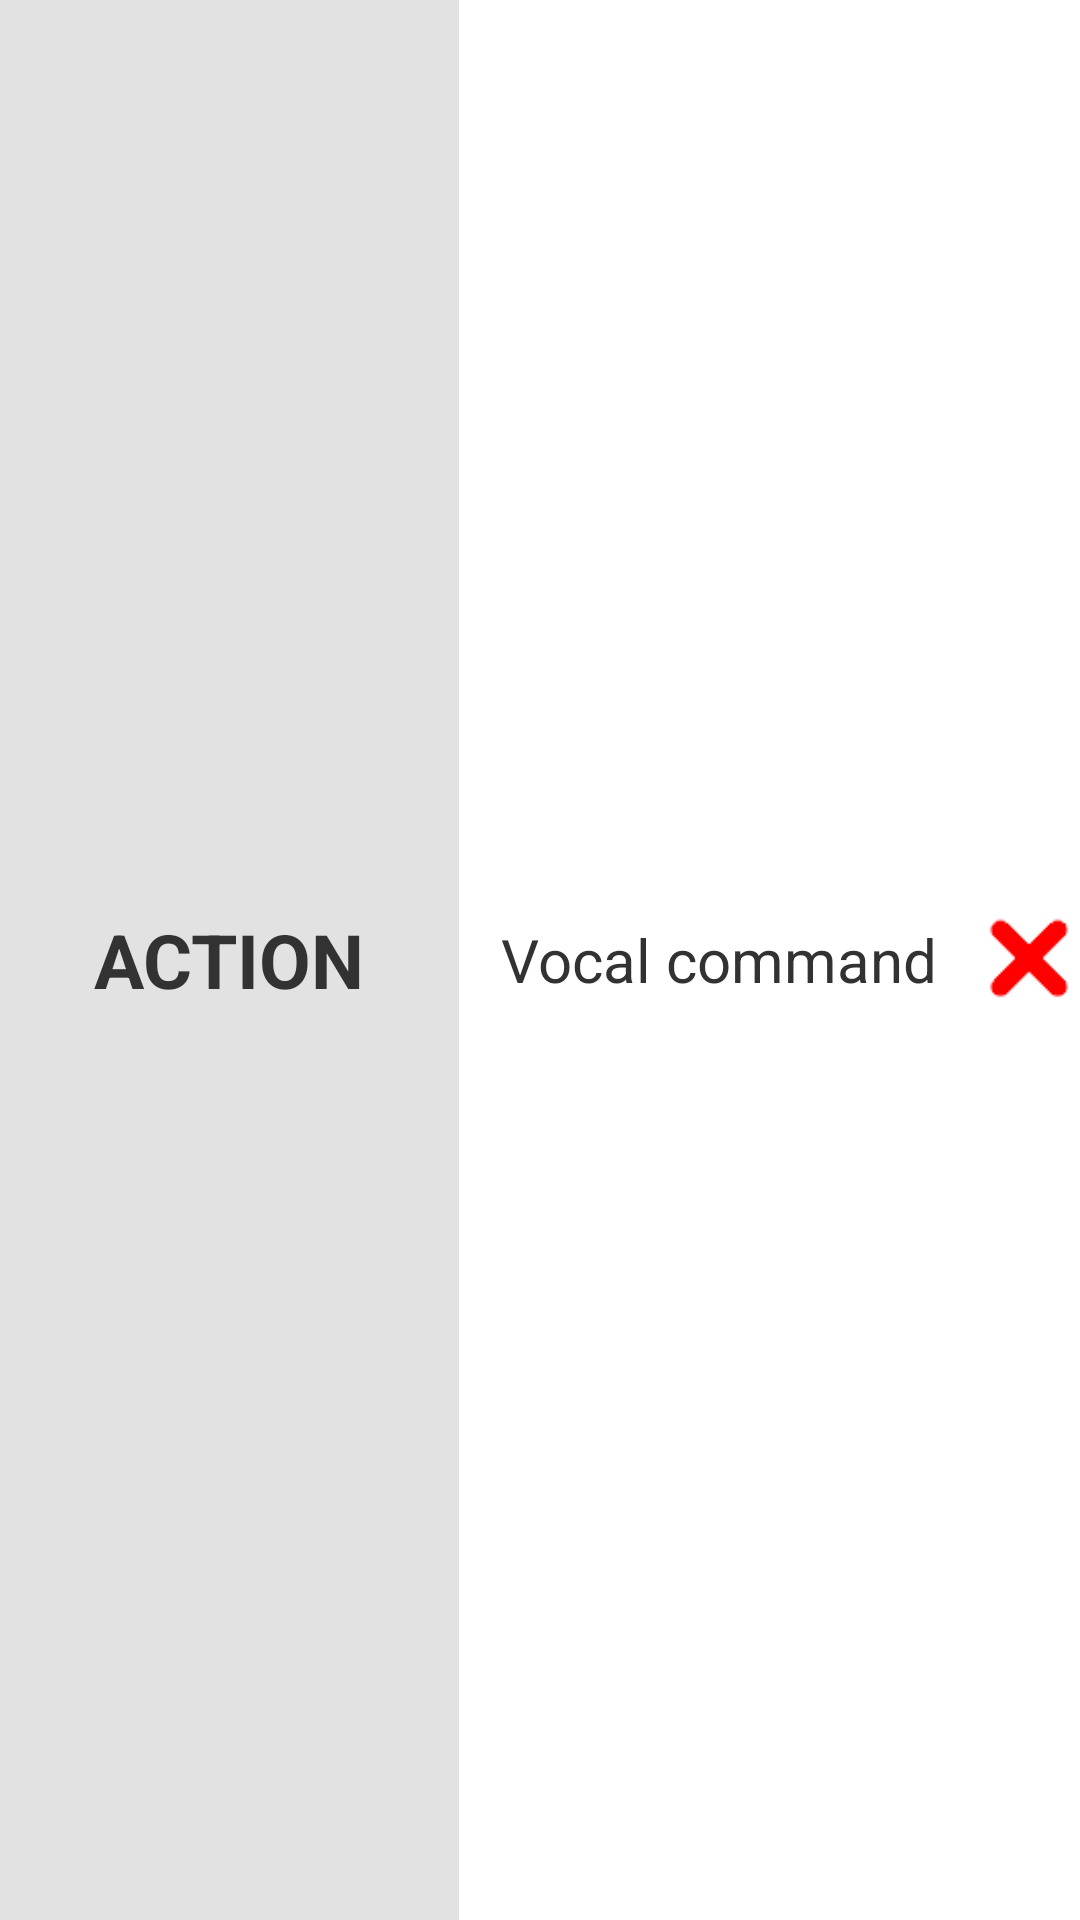

Locate icon controls on the screen. Image size 1080 x 1920, boxes as (x1,y1,x2,y2).
cross: (990,919,1068,997)
